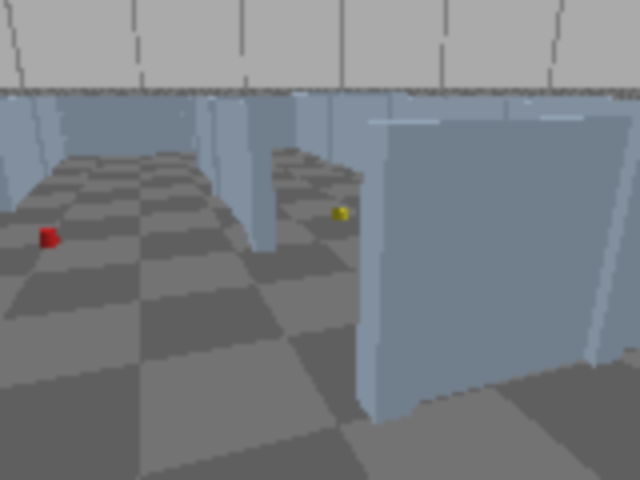puck: (40, 227, 57, 247)
